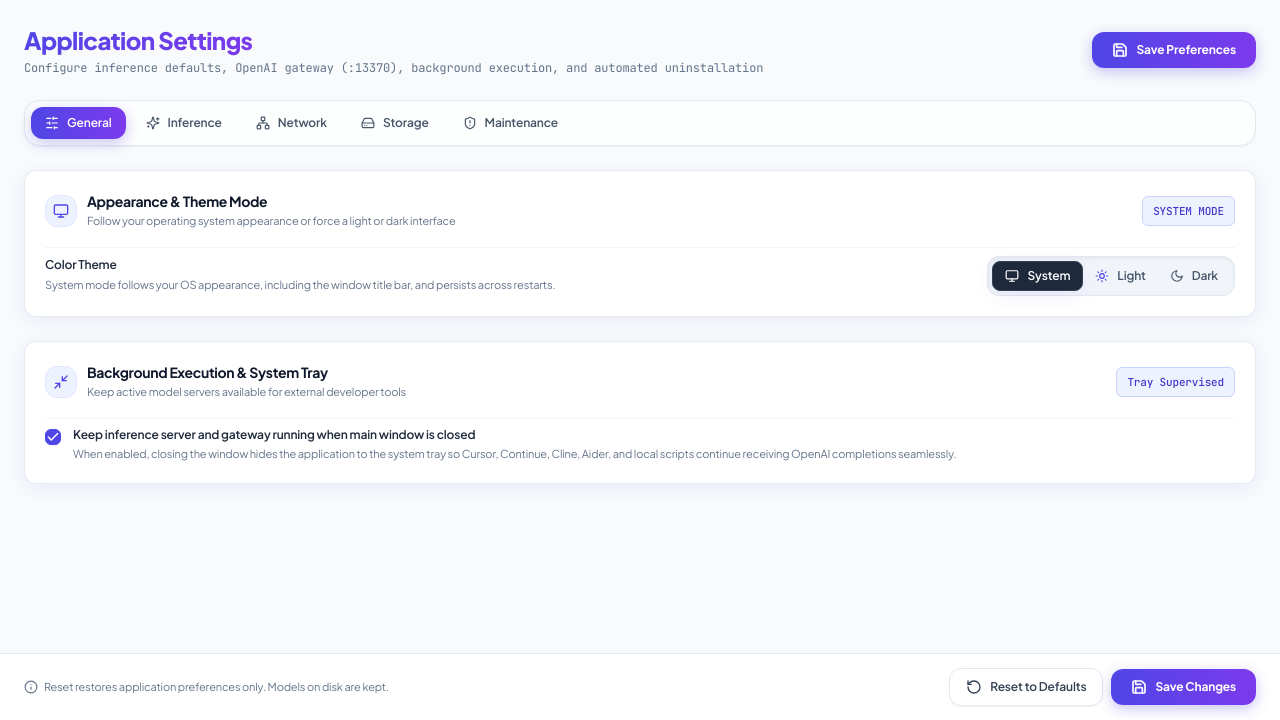
Test: SettingsView UI & Automated Uninstaller › saves preferences and displays save confirmation banner
This screenshot has width=1280, height=720.
Expected: the text "Save Preferences" is shown, [1136,42,1236,58]
What coordinates should you click on to do the following:
click the button "Save Preferences"
I would click on:
 (1174, 50)
Its box is [1092,32,1256,68].
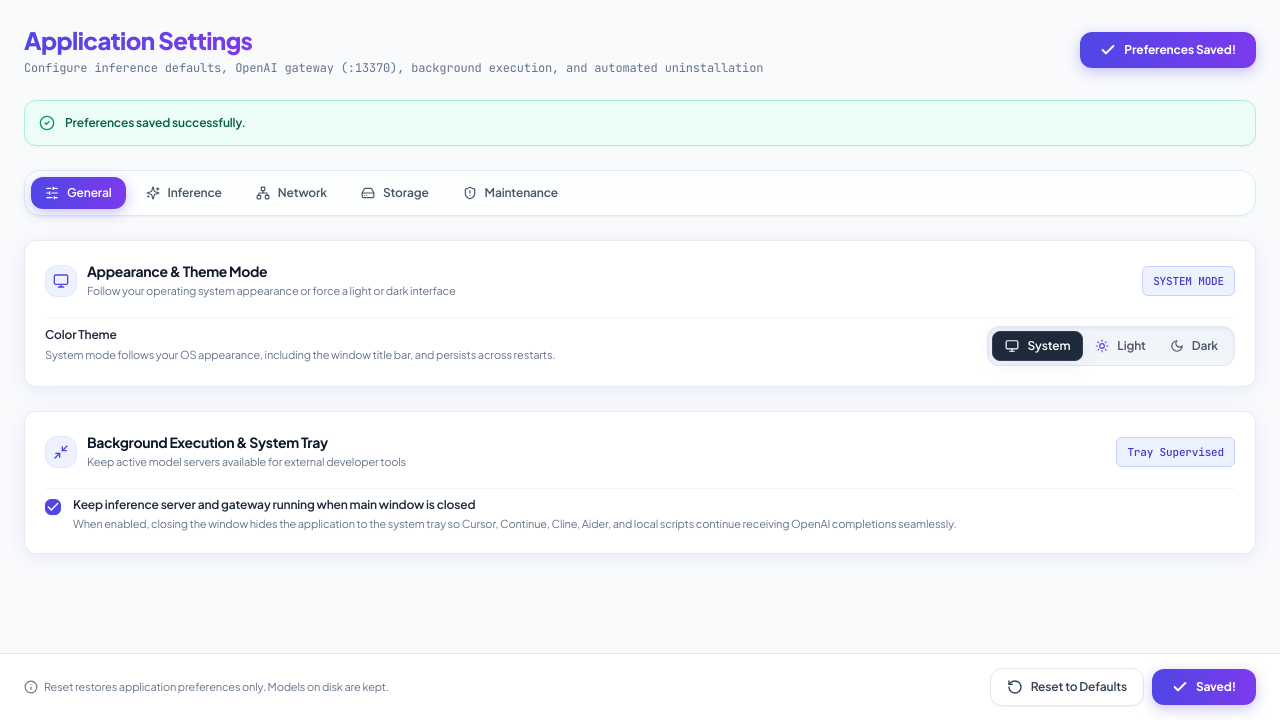
Expected: the text "Preferences saved successfully." is shown, [65,115,246,131]
